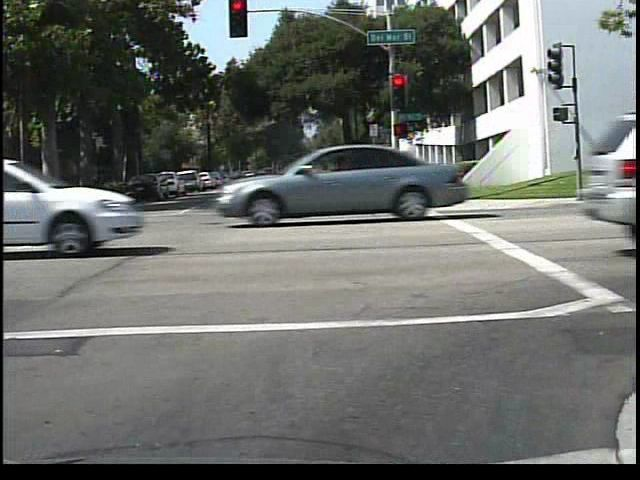person: (605, 137, 631, 201)
